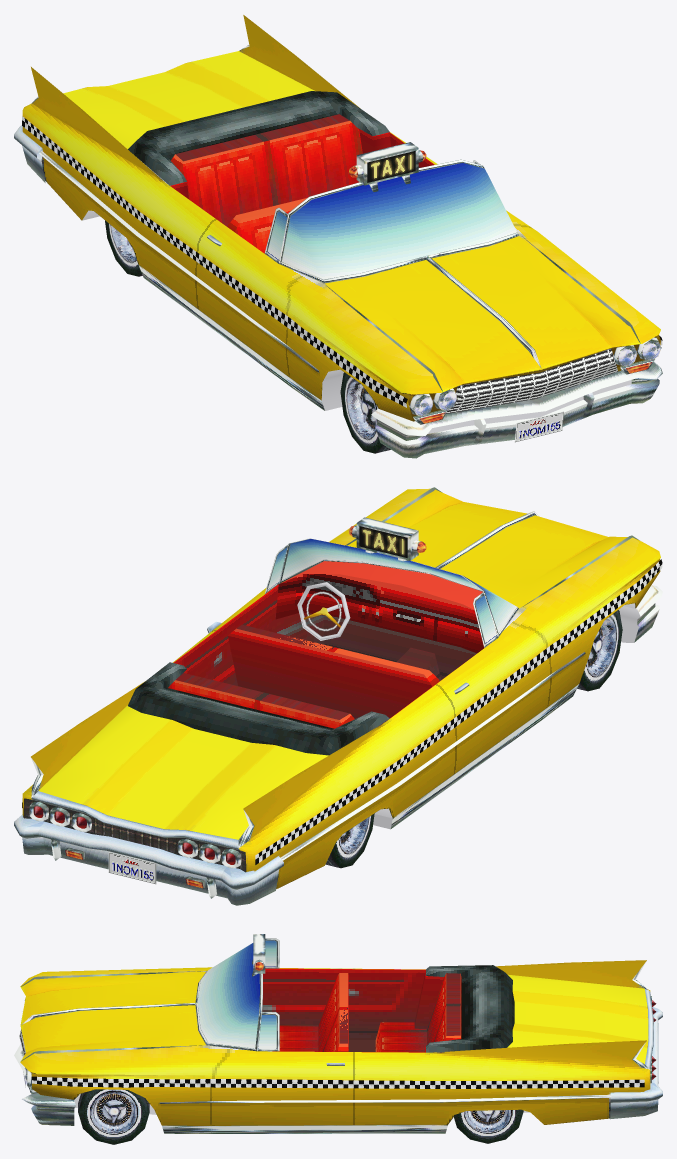
Rendered from cab-axel.glb.
The picture shows the model from 3 angles, top to bottom: view 1: azimuth 30°, elevation 25°; view 2: azimuth 150°, elevation 25°; view 3: azimuth 270°, elevation 25°; orthographic projection. The views are drawn at different scales.
Parts seen in each view (by area): view 1: body, wheel front right, roof sign, wheel rear right; view 2: body, rear bumper, wheel front right, wheel rear right, roof sign; view 3: body, wheel front left, wheel rear left.
Boxes of the visible parts, left/top/right/bottom form: body: left=14, top=15, right=662, bottom=458; wheel front right: left=340, top=372, right=390, bottom=453; roof sign: left=367, top=151, right=415, bottom=182; wheel rear right: left=105, top=220, right=142, bottom=276; body: left=14, top=487, right=662, bottom=905; rear bumper: left=29, top=802, right=241, bottom=868; wheel front right: left=577, top=610, right=622, bottom=691; wheel rear right: left=325, top=813, right=374, bottom=868; roof sign: left=359, top=526, right=407, bottom=557; body: left=14, top=934, right=662, bottom=1133; wheel front left: left=78, top=1089, right=149, bottom=1144; wheel rear left: left=454, top=1109, right=523, bottom=1143.
Size of the model in its own units: 19.97 by 14.37 by 53.79.
Materials: 36 (35 with a texture image).
